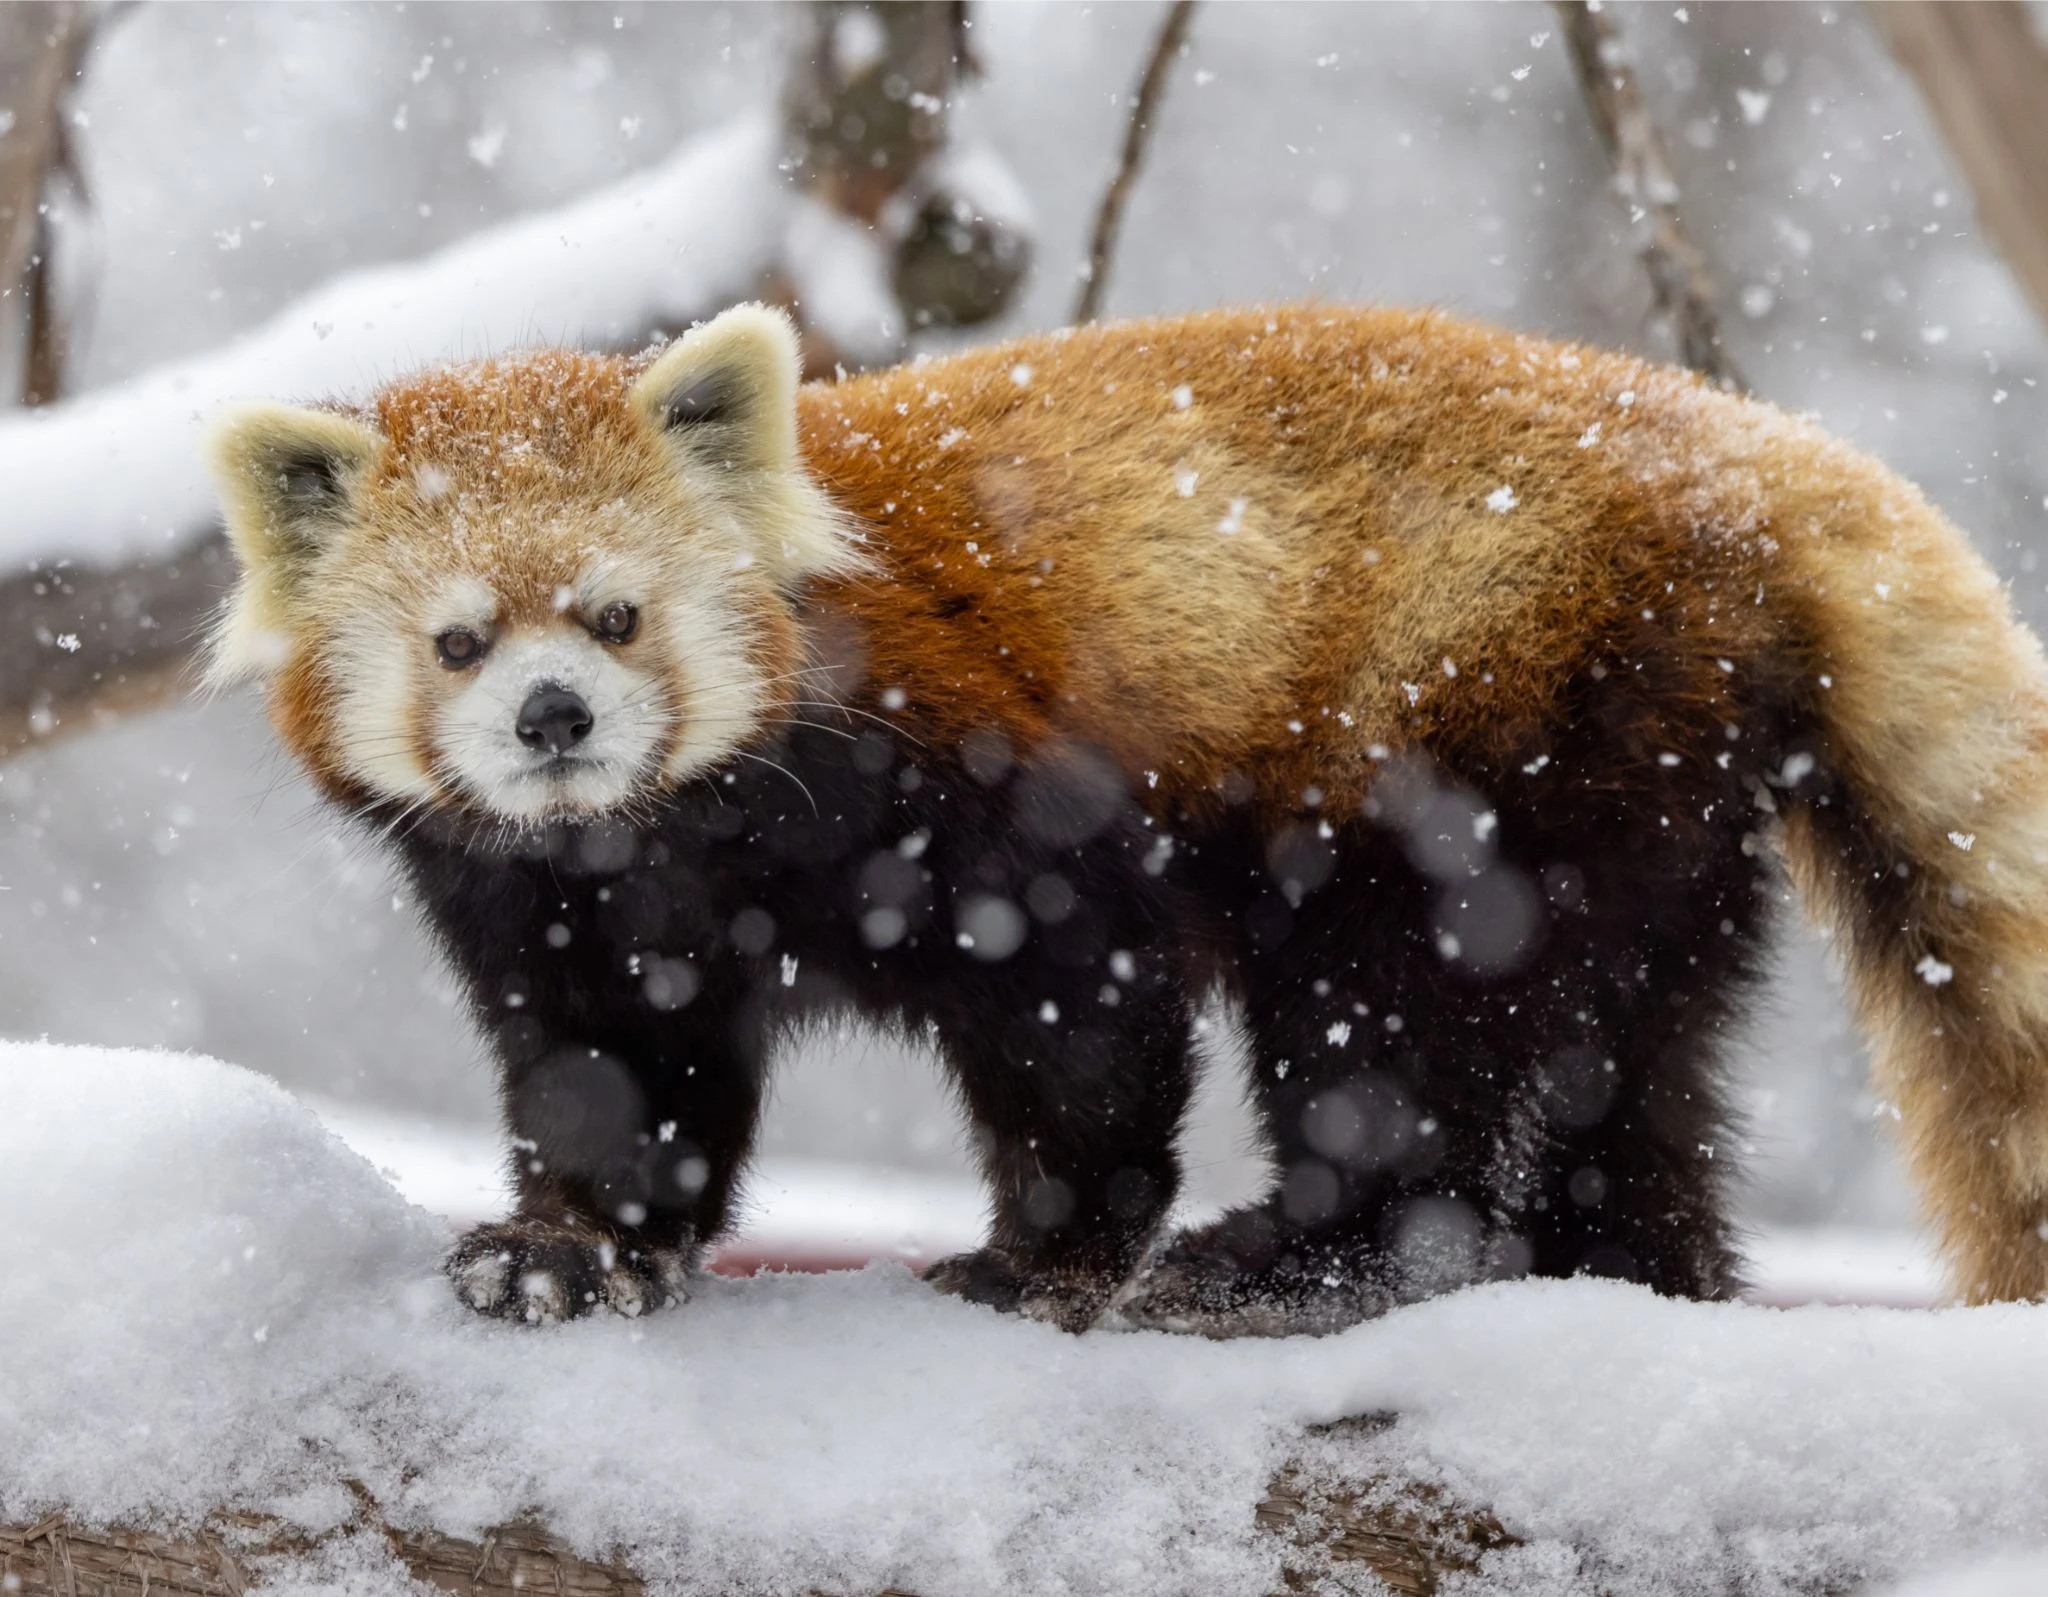Red panda: (186, 302, 869, 839)
